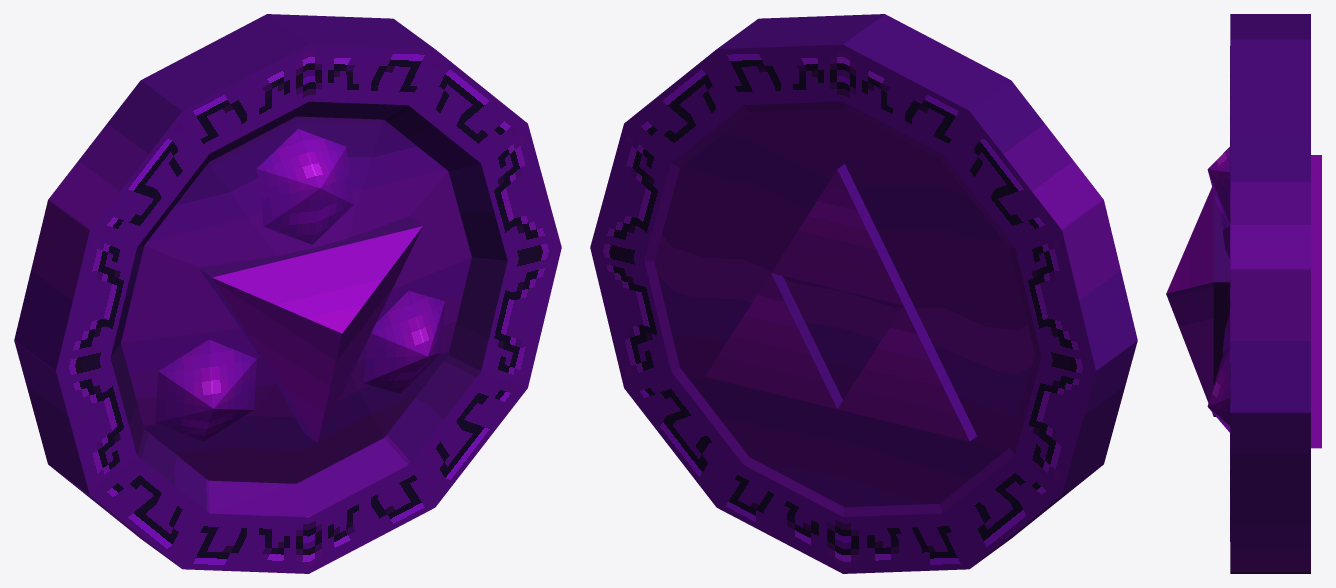
Rendered from Shadow Medallion.obj.
The picture shows the model from 3 angles, left to right: view 1: azimuth 30°, elevation 25°; view 2: azimuth 150°, elevation 25°; view 3: azimuth 270°, elevation 25°; orthographic projection. The views are drawn at different scales.
Visible parts, largest first — view 1: shadowmedal_geom-03770028; view 2: shadowmedal_geom-03770028; view 3: shadowmedal_geom-03770028.
Boxes of the visible parts, bbox=[...] form: shadowmedal_geom-03770028: bbox=[14, 14, 561, 573]; shadowmedal_geom-03770028: bbox=[590, 14, 1137, 573]; shadowmedal_geom-03770028: bbox=[1166, 14, 1321, 573].
Size of the model in its own units: 0.779 by 0.779 by 0.2159.
1 material, 1 textured.
